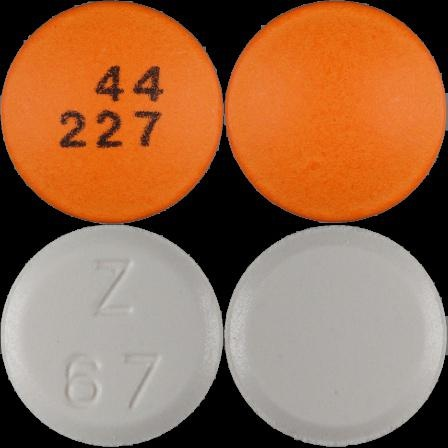66267-026: (0, 0, 224, 224)
